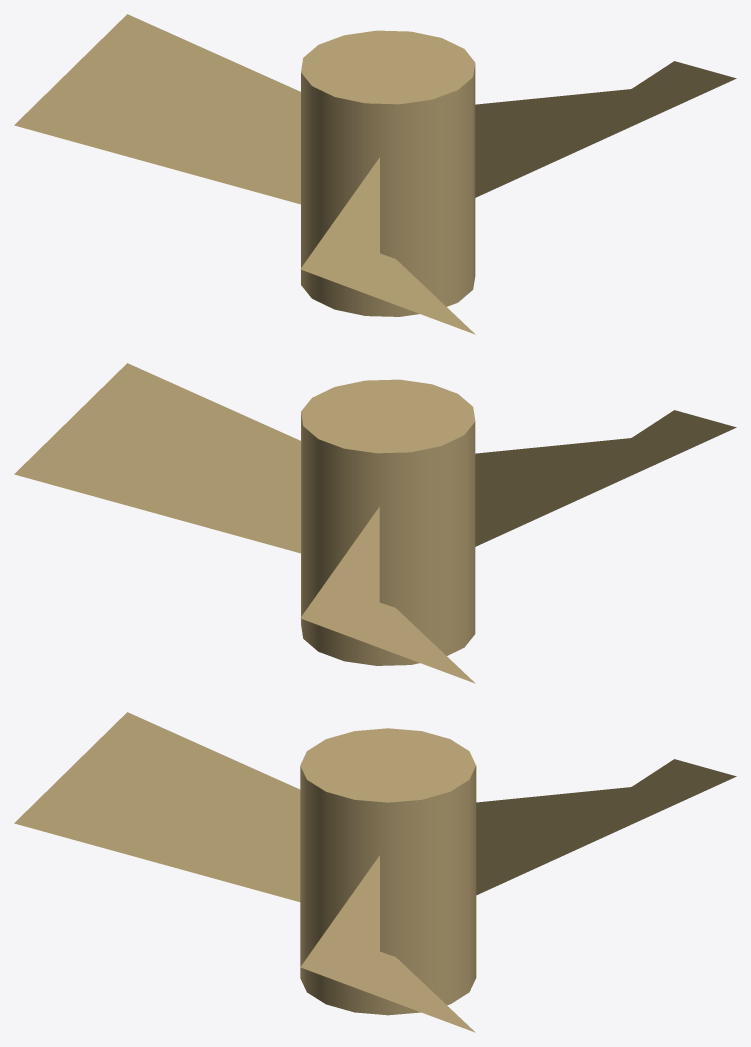
Rendered from helice.glb.
3 renders of one model, top to bottom at view 1: azimuth 30°, elevation 25°; view 2: azimuth 150°, elevation 25°; view 3: azimuth 270°, elevation 25°, orthographic.
Parts seen in each view (by area): view 1: helice; view 2: helice; view 3: helice.
Boxes of the visible parts, box(x1,y1,x2,y2) form: helice: box(14, 14, 736, 334); helice: box(14, 363, 736, 683); helice: box(14, 712, 736, 1032).
Size of the model in its own units: 0.221 by 0.08 by 0.2465.
